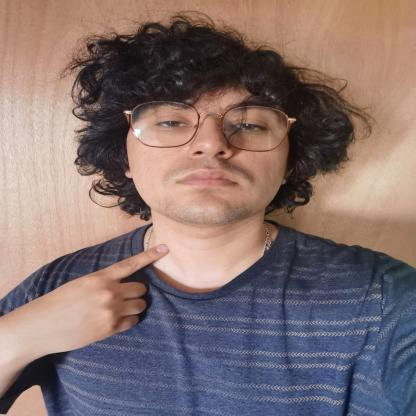Q: (40, 240, 173, 356)
